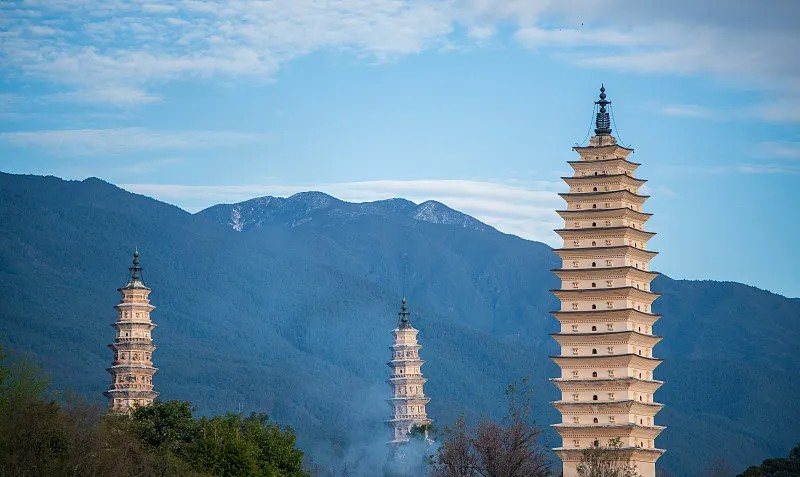ThreePagoda: (548, 84, 667, 477)
